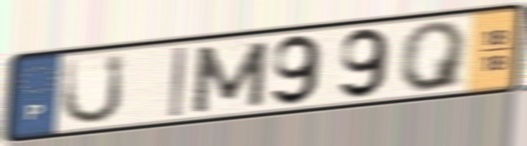9: (269, 32, 327, 108), (337, 26, 394, 101)
I: (167, 44, 190, 120)
M: (189, 38, 272, 116)
Q: (399, 18, 472, 94)
U: (58, 51, 127, 128)
